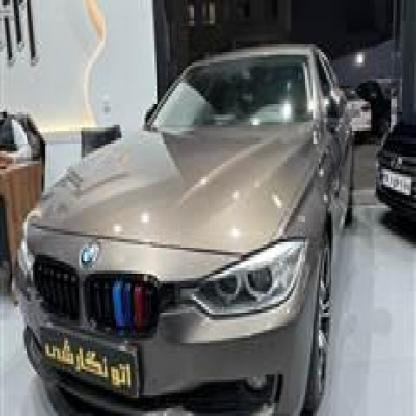Car: (7, 41, 364, 416), (369, 109, 416, 216), (343, 73, 376, 139)
